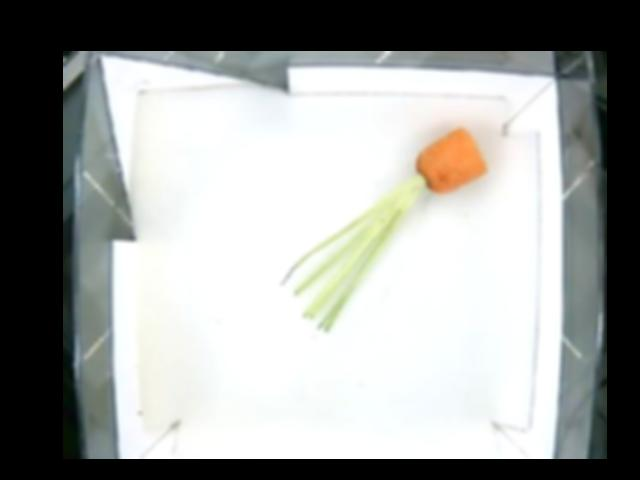Carrot: (371, 125, 488, 226)
